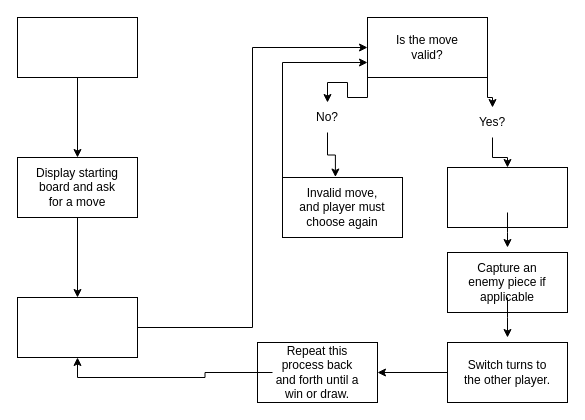
This 585x420 diagram has some shape labels left out. The centre of each missing label's shape, as x and y in pixels:
Choose a piece and move: the point at 77,327
Move piece from previous square to new square: the point at 507,197
Program start: the point at 77,47
